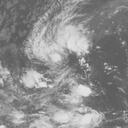cyclone: (22, 3, 89, 66)
